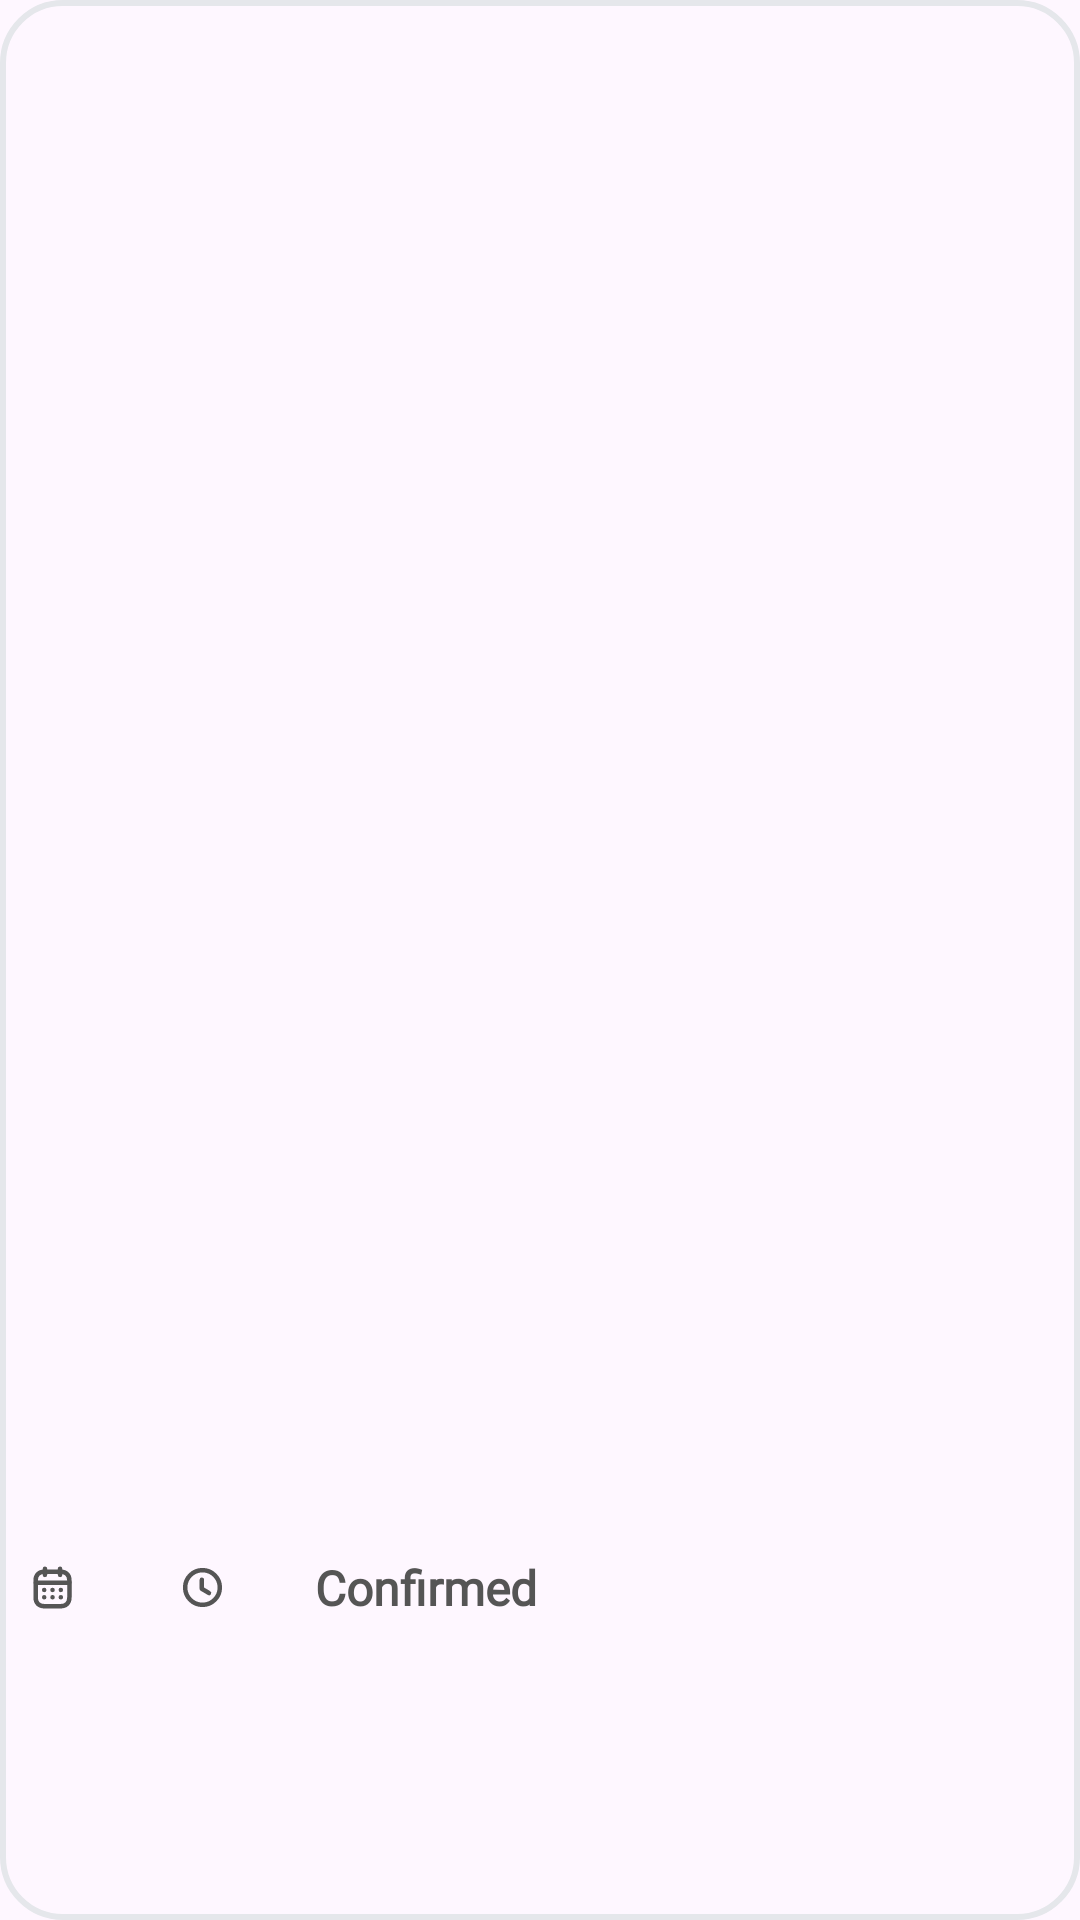

Where to tap for icons on this 1080 x 1920 app screen, as (x=x, y=y):
calendar: (x=52, y=1587)
time: (x=202, y=1587)
